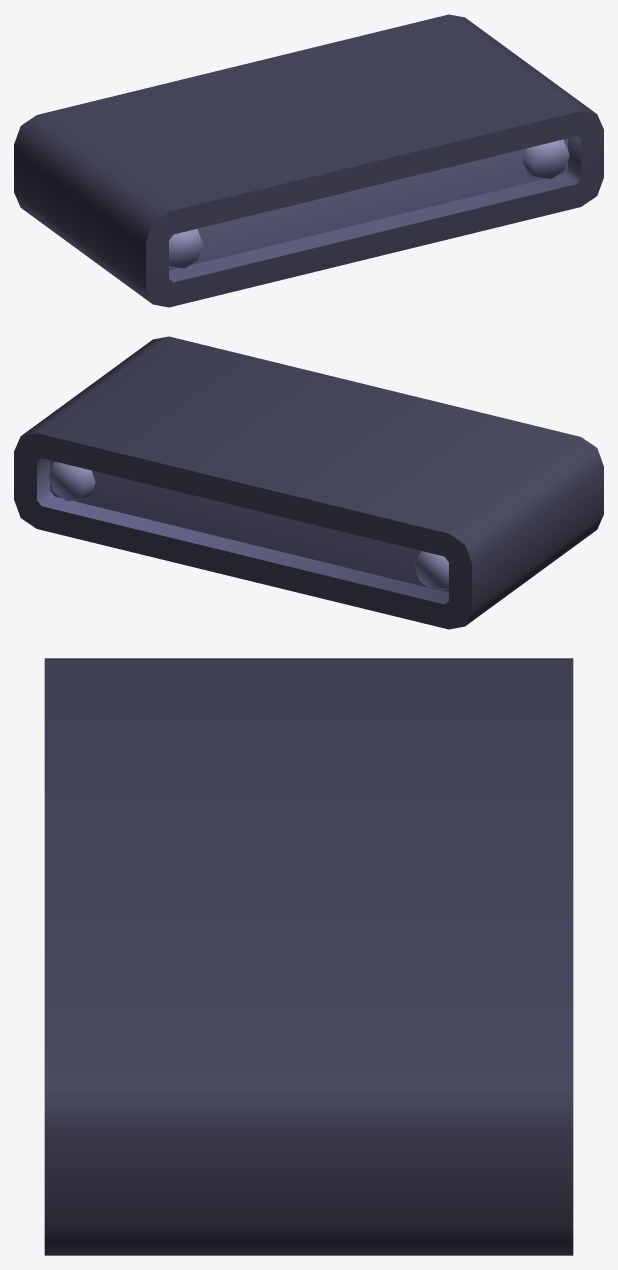
The model's file is kenney-factory-conveyor-long.glb.
3 views of the same model, one above another, from view 1: azimuth 30°, elevation 25°; view 2: azimuth 150°, elevation 25°; view 3: azimuth 270°, elevation 25° (orthographic). The views are drawn at different scales.
Parts seen in each view (by area): view 1: conveyor-long; view 2: conveyor-long; view 3: conveyor-long.
Boxes of the visible parts, x1=… form: conveyor-long: x1=14, y1=14, x2=603, y2=307; conveyor-long: x1=14, y1=336, x2=603, y2=629; conveyor-long: x1=44, y1=658, x2=573, y2=1255.
Bounding box in the file's own units: 3 × 0.6 × 1.5.
Materials: 1 (1 with a texture image).
